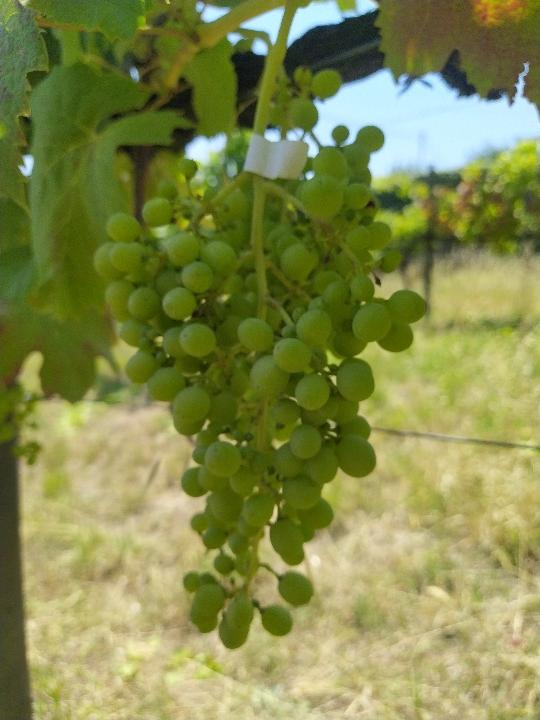grape: (88, 123, 434, 654)
